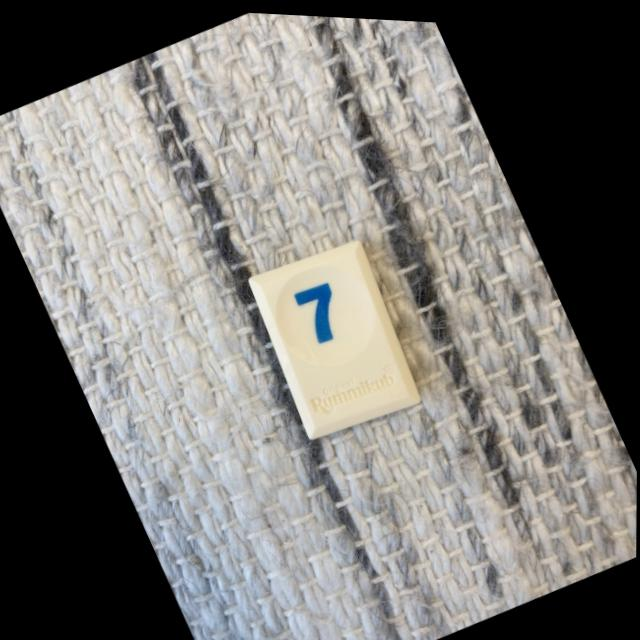blue_7: (250, 237, 421, 435)
